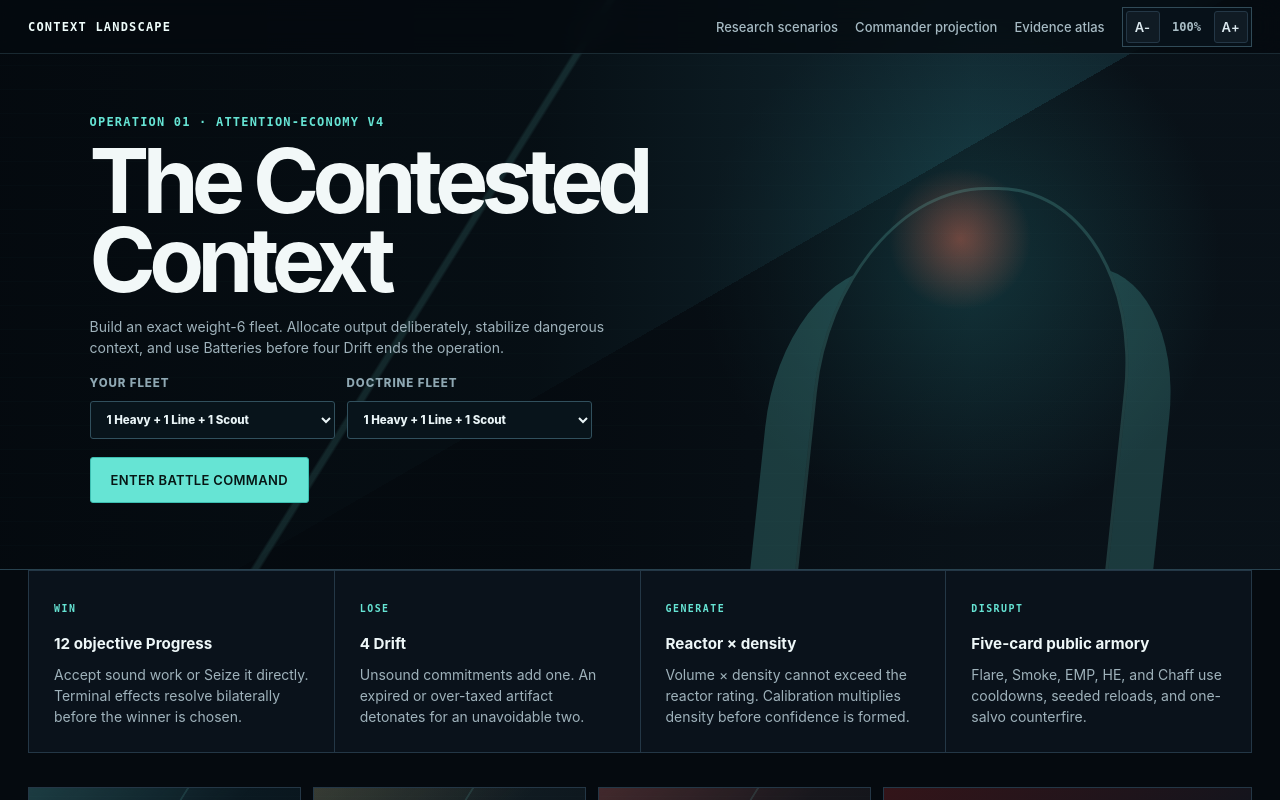
Scenario: Battle Command v4 accessibility and interaction › uses a focus-managed in-app risk dialog for projected detonations
Click the button "Enter battle command": (199, 480) [90,457,309,503]
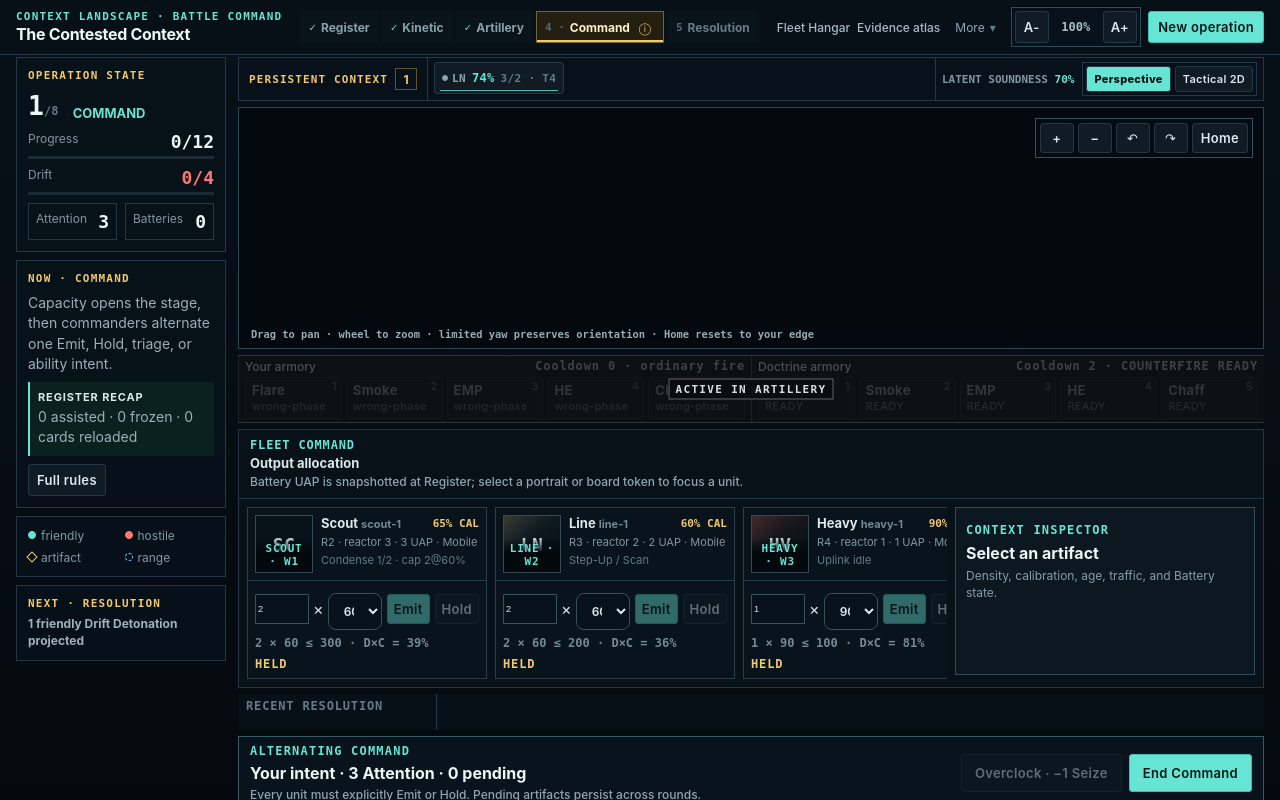
Expected: the text "ALTERNATING COMMAND" is shown, [250,744,410,758]
Click the button "End Command": (1190, 773) [1129,754,1252,792]
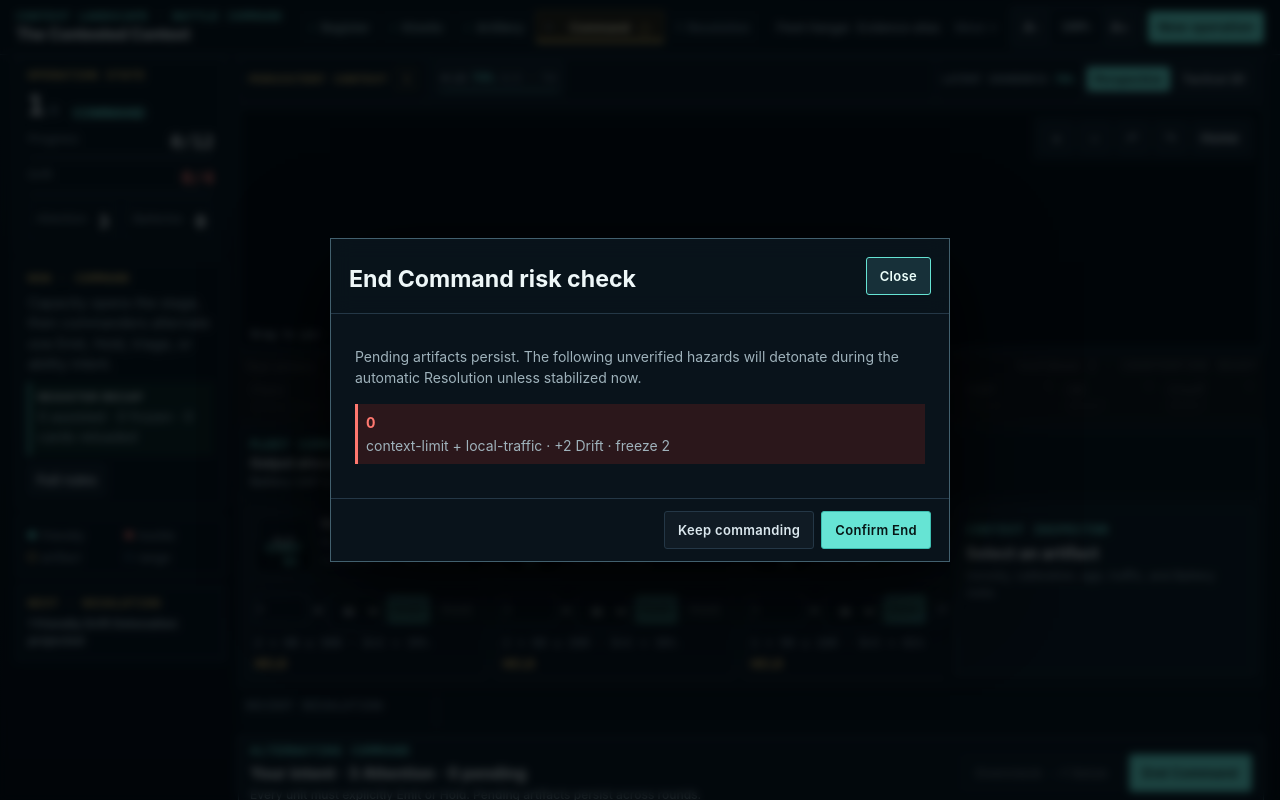
Expected: the dialog "End Command risk check" is shown, [330,238,950,562]
Press Escape
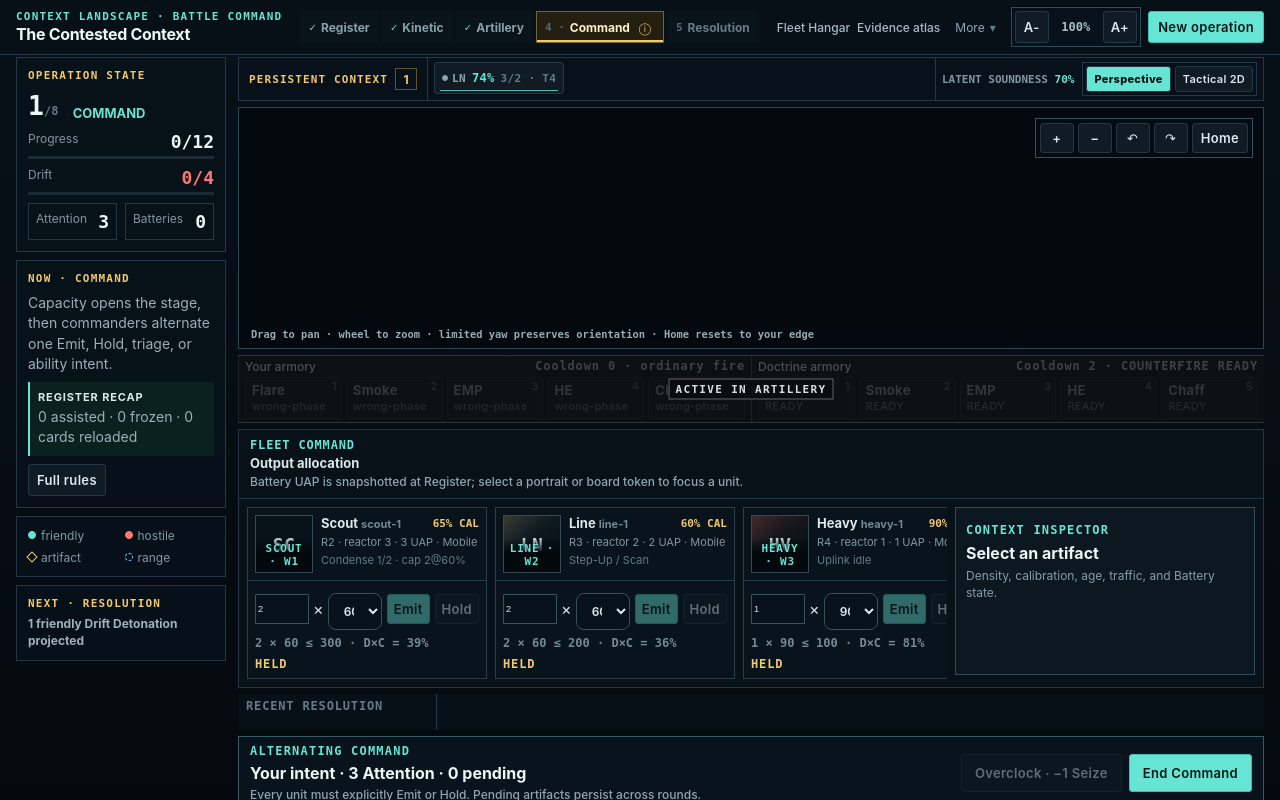
Expected: the dialog is gone
